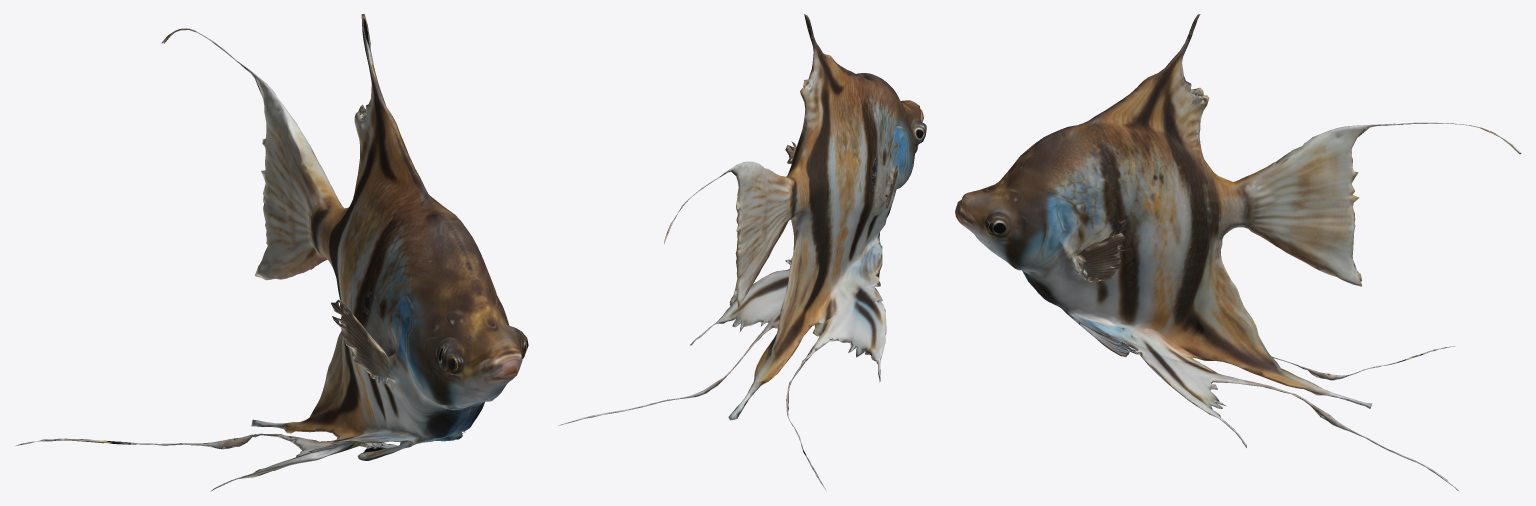
File: man_fish_0604071712_texture.glb
3 renders of one model, left to right at view 1: azimuth 30°, elevation 25°; view 2: azimuth 150°, elevation 25°; view 3: azimuth 270°, elevation 25°, orthographic. The views are drawn at different scales.
Bounding box in the file's own units: 1.23 × 1.57 × 1.99.
Materials: 1 (1 with a texture image).
